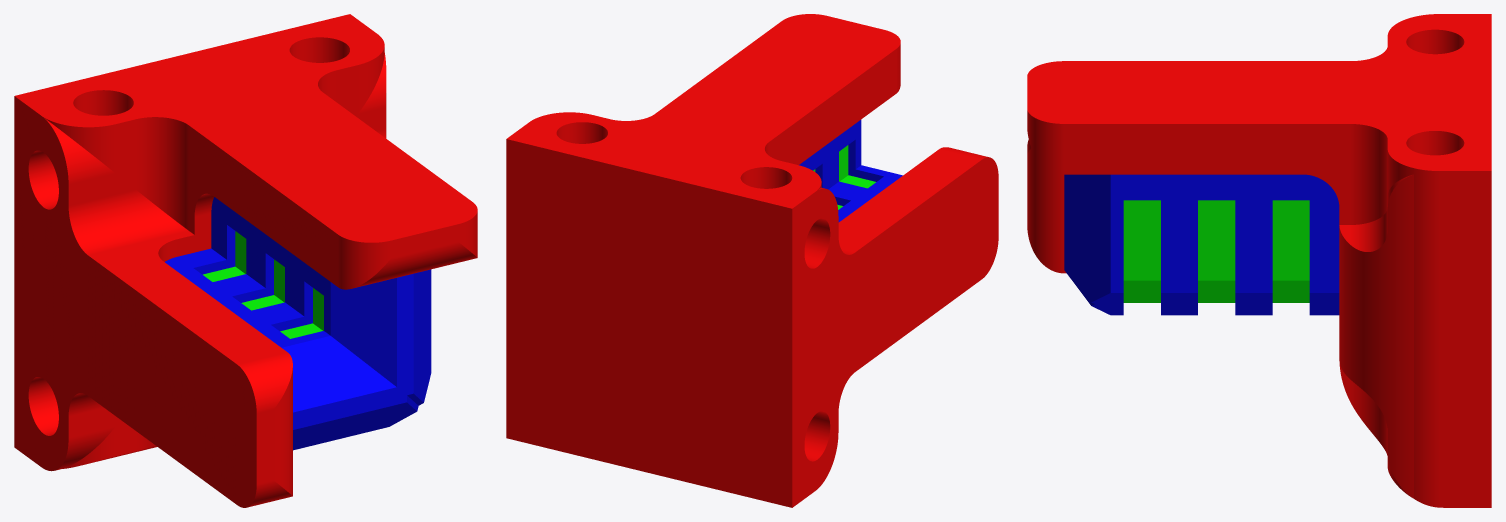
The model's file is shieldwall_corner_connector.gltf.
3 views of the same model, side by side, from view 1: azimuth 30°, elevation 25°; view 2: azimuth 150°, elevation 25°; view 3: azimuth 270°, elevation 25° (orthographic). The views are drawn at different scales.
Parts seen in each view (by area): view 1: frame_part, mesh_part, window_part; view 2: frame_part, mesh_part, window_part; view 3: frame_part, mesh_part, window_part.
Boxes of the visible parts, x1,y1,x2,y2 form: frame_part: (14,14,477,507); mesh_part: (165,197,431,450); window_part: (203,231,323,338); frame_part: (506,14,998,507); mesh_part: (799,120,902,222); window_part: (813,145,875,209); frame_part: (1027,14,1491,507); mesh_part: (1064,174,1339,315); window_part: (1123,200,1309,302).
Size of the model in its own units: 20 by 20 by 25.
